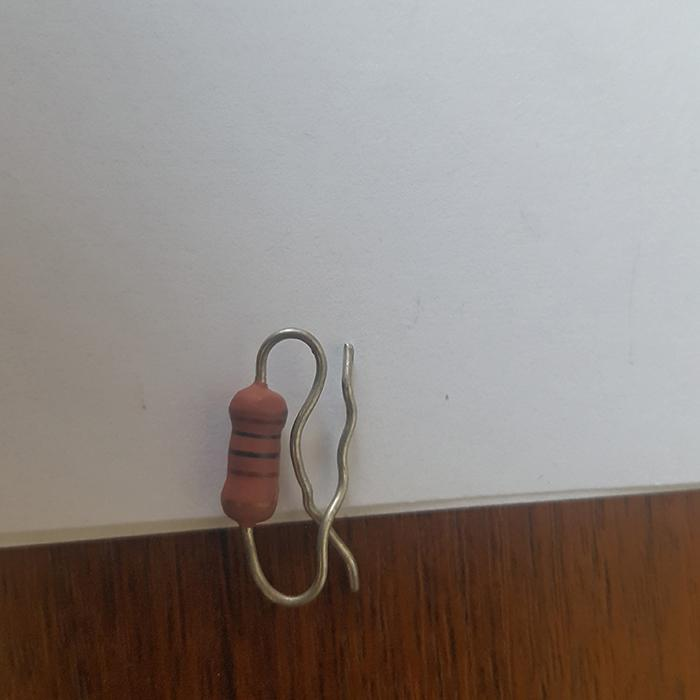resistor: (220, 382, 287, 527)
